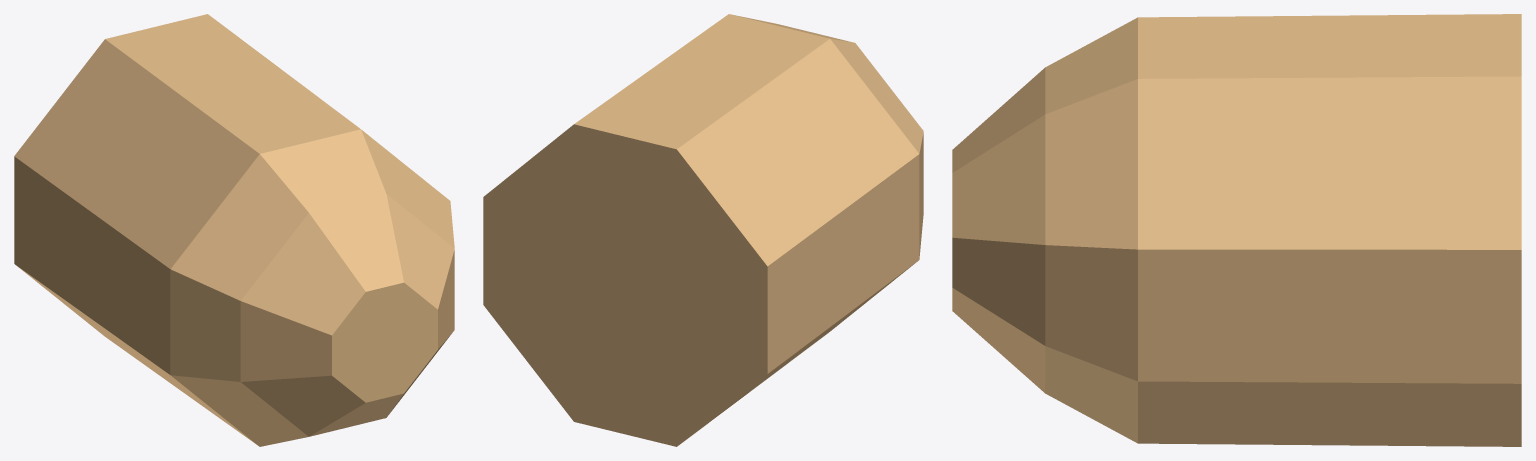
File: bullet.fbx
3 views of the same model, side by side, from view 1: azimuth 30°, elevation 25°; view 2: azimuth 150°, elevation 25°; view 3: azimuth 270°, elevation 25° (orthographic). The views are drawn at different scales.
Visible parts, largest first — view 1: Cube; view 2: Cube; view 3: Cube.
Boxes of the visible parts, x1,y1,x2,y2 form: Cube: (14, 14, 454, 446); Cube: (483, 14, 923, 446); Cube: (952, 14, 1521, 446).
Bounding box in the file's own units: 29.94 × 29.94 × 41.68.
